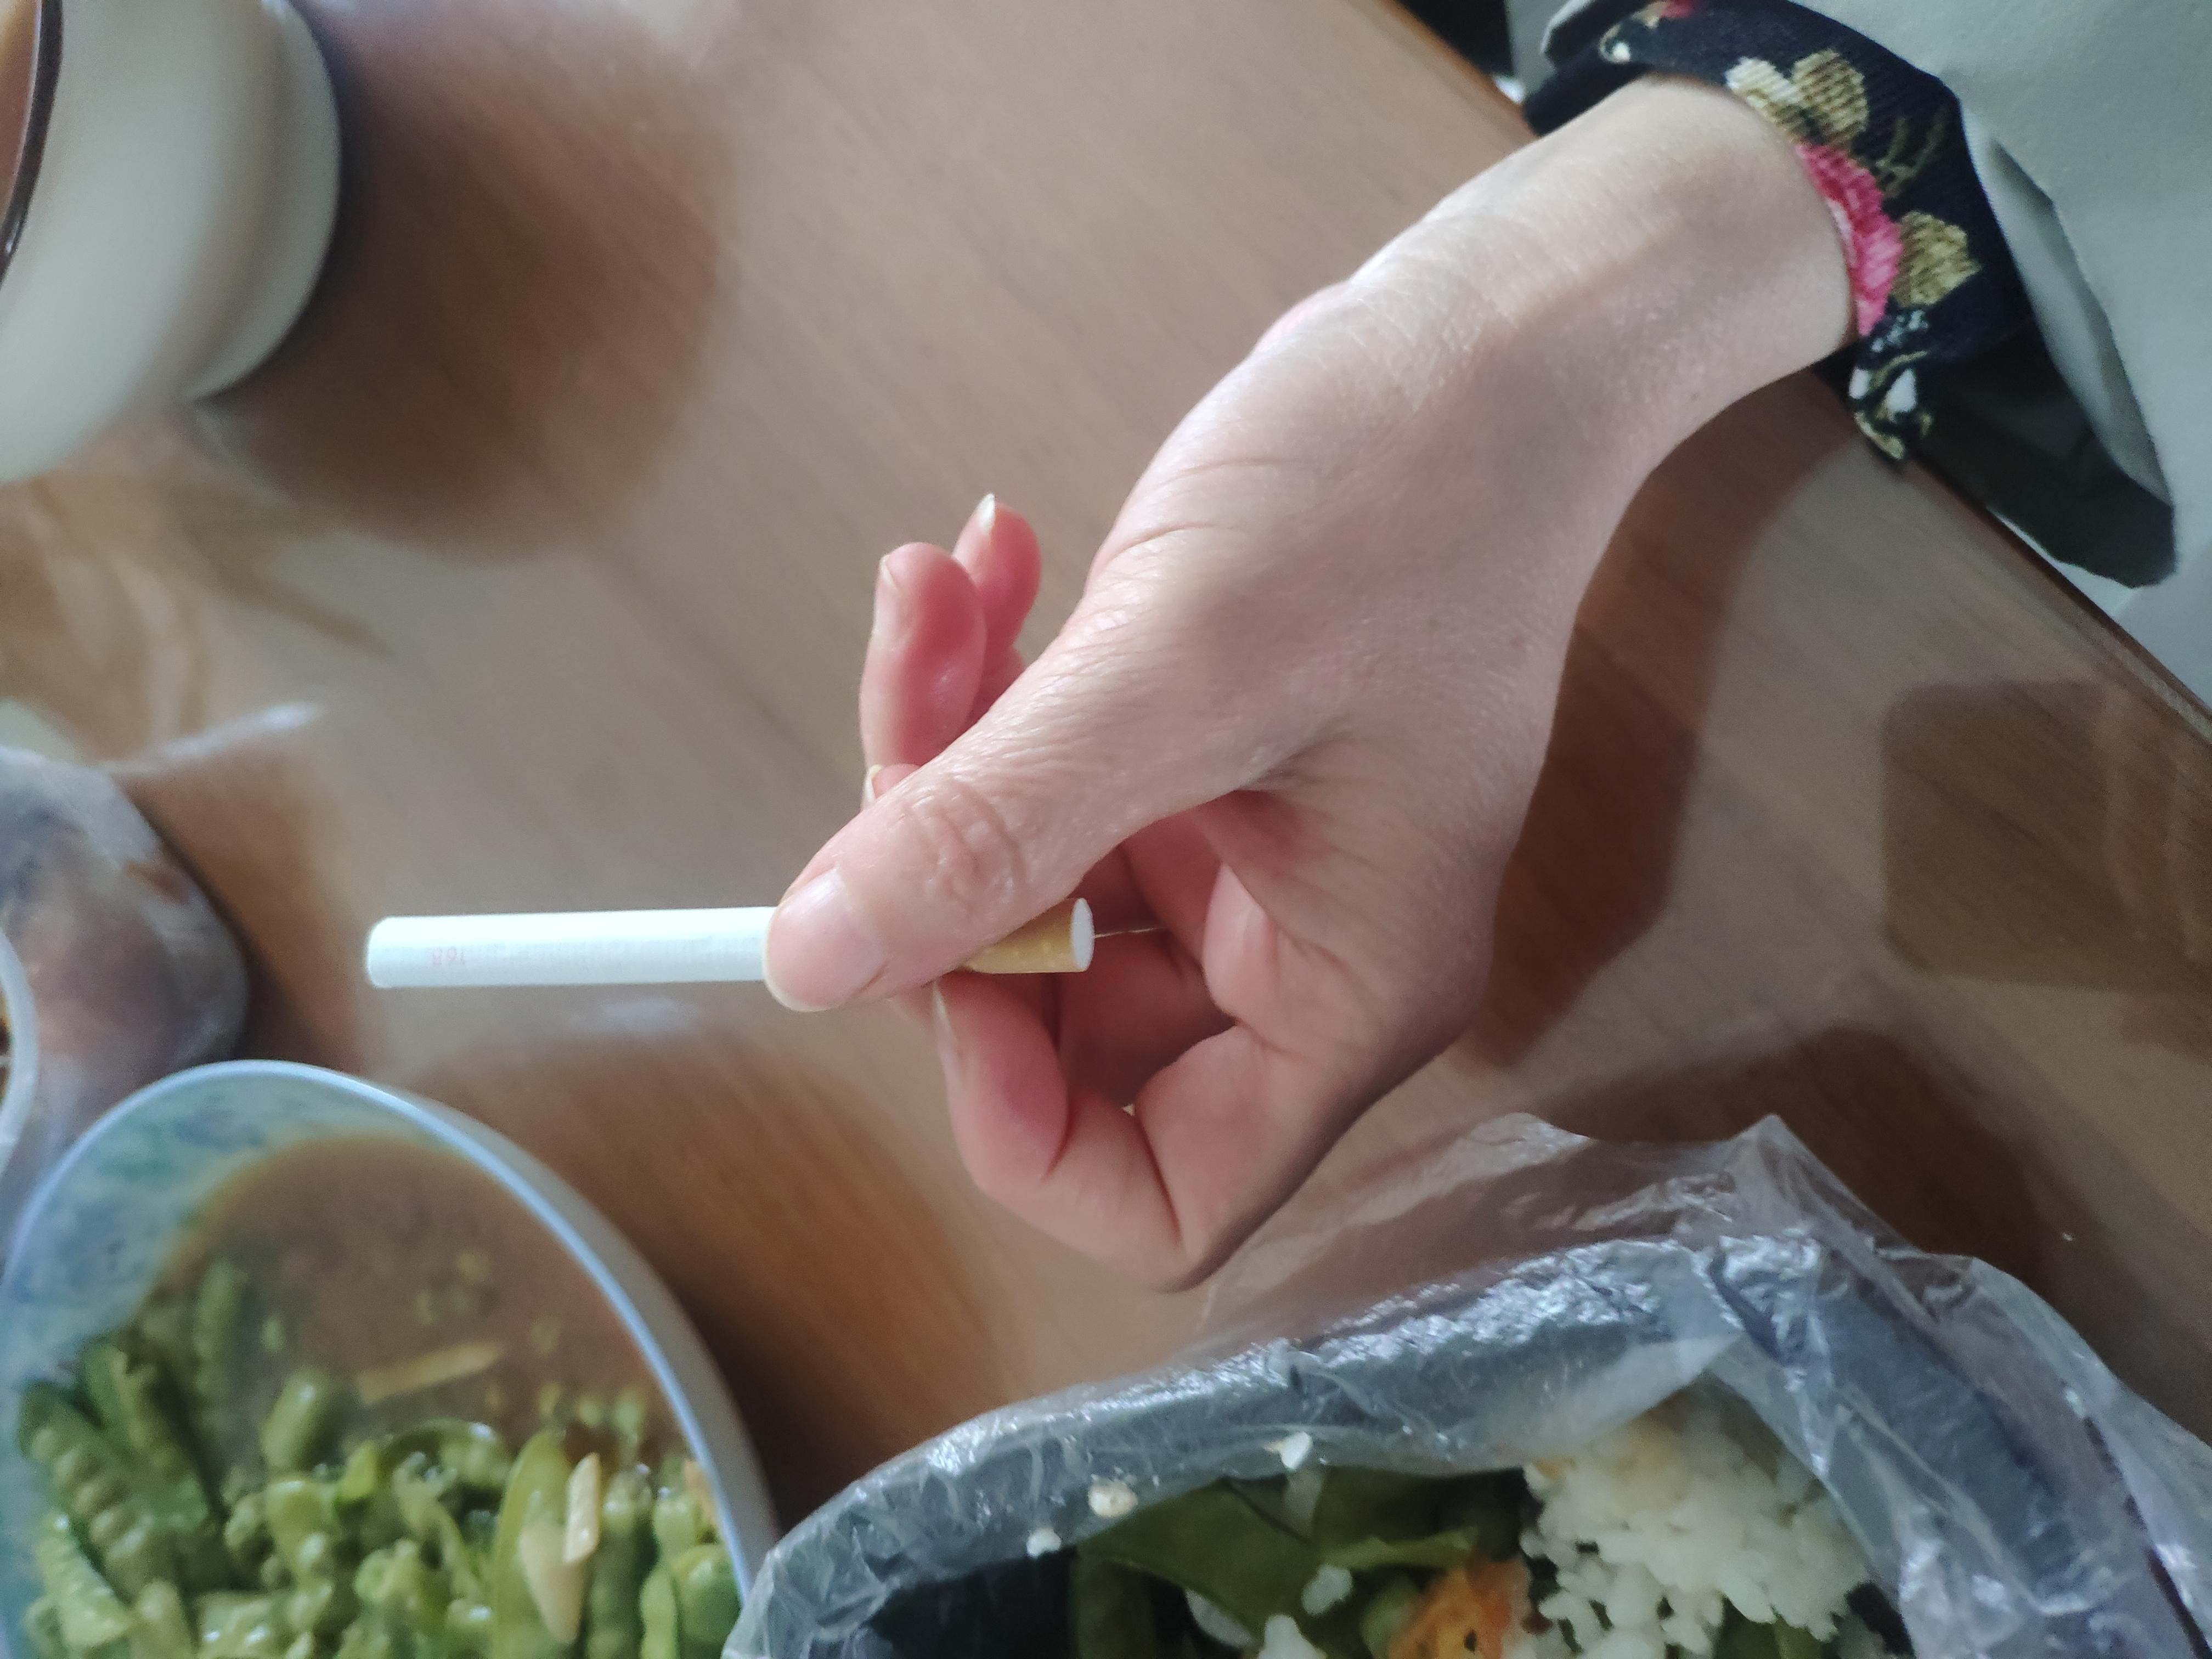smoke: (894, 274, 1021, 823)
